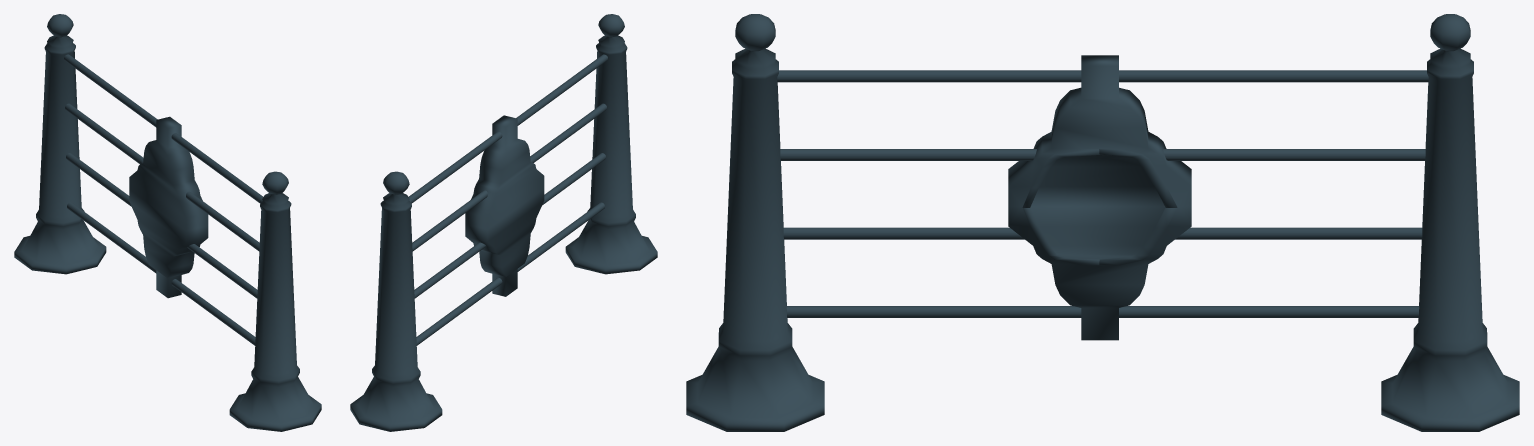
The model's file is towerrailing.fbx.
The picture shows the model from 3 angles, left to right: view 1: azimuth 30°, elevation 25°; view 2: azimuth 150°, elevation 25°; view 3: azimuth 270°, elevation 25°; orthographic projection. The views are drawn at different scales.
Parts seen in each view (by area): view 1: Circle, Circle.001, Cube, Cylinder; view 2: Circle.001, Circle, Cube, Cylinder; view 3: Cube, Cylinder, Circle, Circle.001.
Boxes of the visible parts, x1,y1,x2,y2 form: Circle: (229, 171, 321, 431); Circle.001: (14, 14, 106, 274); Cube: (129, 116, 208, 298); Cylinder: (64, 54, 262, 345); Circle.001: (350, 171, 442, 431); Circle: (565, 14, 657, 274); Cube: (465, 115, 544, 296); Cylinder: (409, 54, 607, 345); Cube: (1008, 55, 1191, 340); Cylinder: (777, 70, 1428, 317); Circle: (686, 14, 824, 431); Circle.001: (1381, 14, 1519, 431).
Size of the model in its own units: 187 by 574 by 1123.
